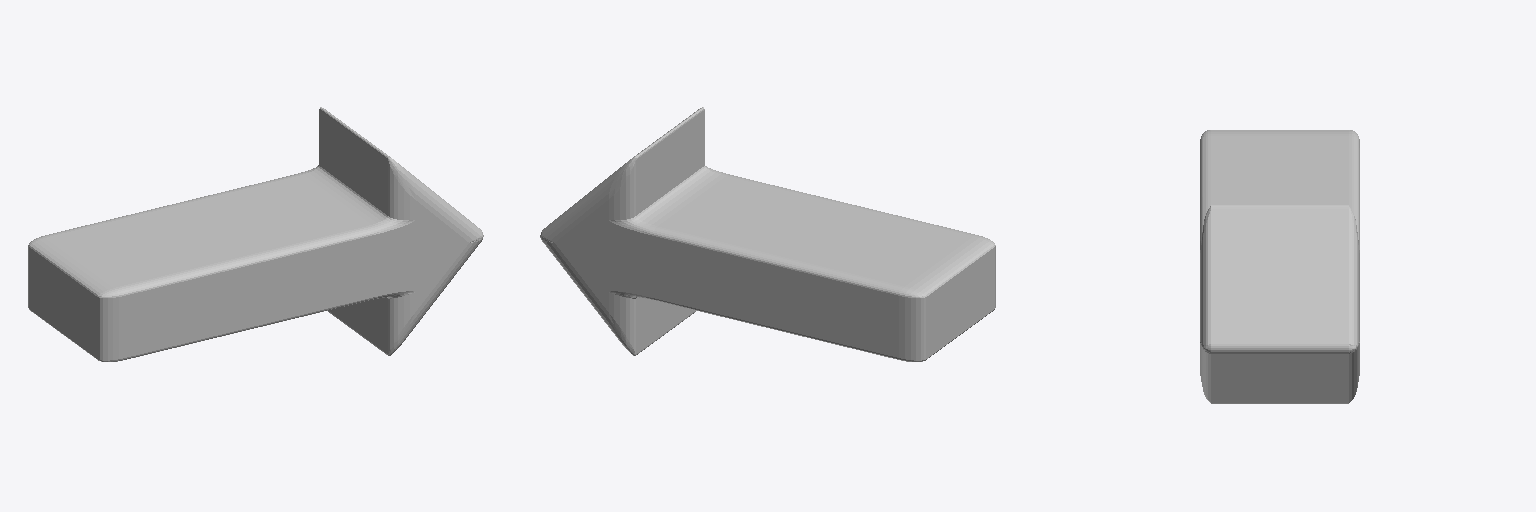
Rendered from arrow.obj.
3 views of the same model, side by side, from view 1: azimuth 30°, elevation 25°; view 2: azimuth 150°, elevation 25°; view 3: azimuth 270°, elevation 25° (orthographic).
Visible parts, largest first — view 1: Cube_Cube.001; view 2: Cube_Cube.001; view 3: Cube_Cube.001.
Part boxes in pixels (x1,y1,x2,y2): Cube_Cube.001: (28, 107, 483, 361); Cube_Cube.001: (540, 107, 995, 361); Cube_Cube.001: (1200, 130, 1359, 403).
Bounding box in the file's own units: 5.57 × 2.75 × 2.